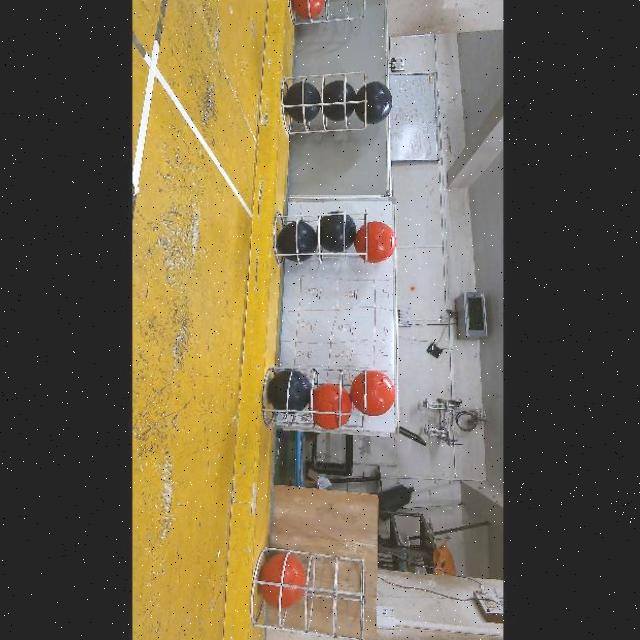P: (266, 370, 310, 414), (353, 81, 391, 125), (276, 222, 316, 263), (318, 211, 355, 253), (282, 81, 319, 122), (322, 81, 354, 122)
R: (257, 553, 305, 610), (349, 370, 394, 417), (311, 383, 353, 429), (353, 222, 395, 263), (290, 0, 324, 19)
S: (243, 542, 371, 640), (258, 359, 368, 431), (266, 206, 370, 266), (285, 67, 371, 136), (288, 0, 368, 30)
